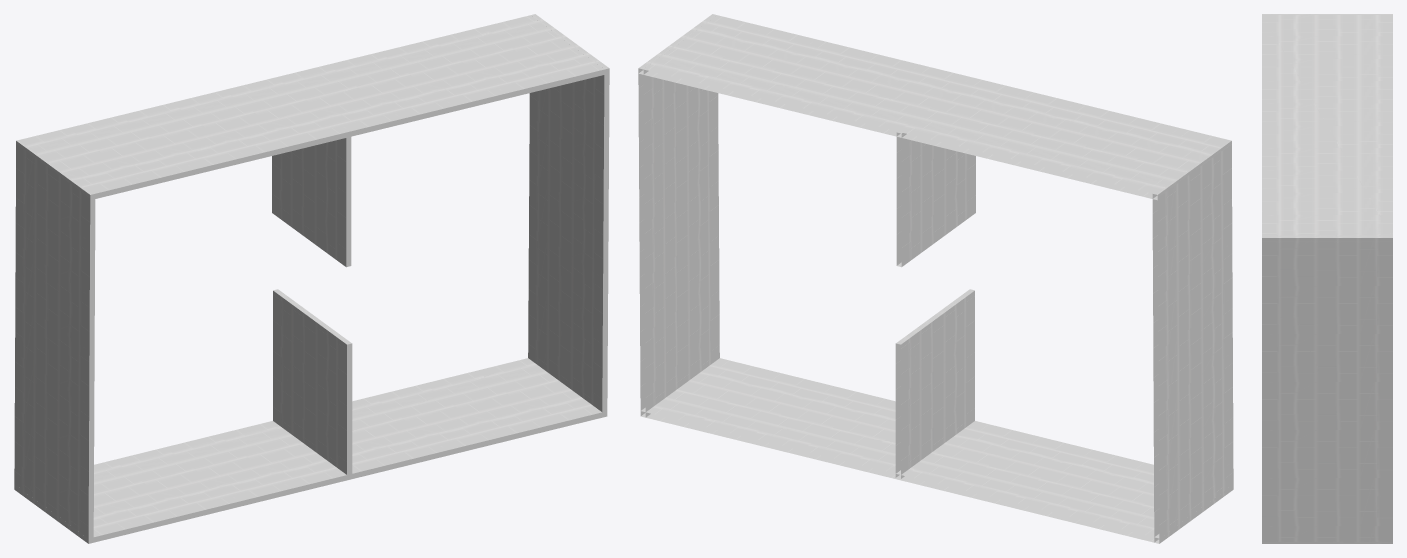
Rendered from wall_1.obj.
3 renders of one model, left to right at view 1: azimuth 30°, elevation 25°; view 2: azimuth 150°, elevation 25°; view 3: azimuth 270°, elevation 25°, orthographic. The views are drawn at different scales.
Parts seen in each view (by area): view 1: walls; view 2: walls; view 3: walls.
Part boxes in pixels (x1,y1,x2,y2): walls: [14, 14, 609, 543]; walls: [638, 14, 1233, 543]; walls: [1262, 14, 1392, 543].
Size of the model in its own units: 10.14 by 6.48 by 2.5.
